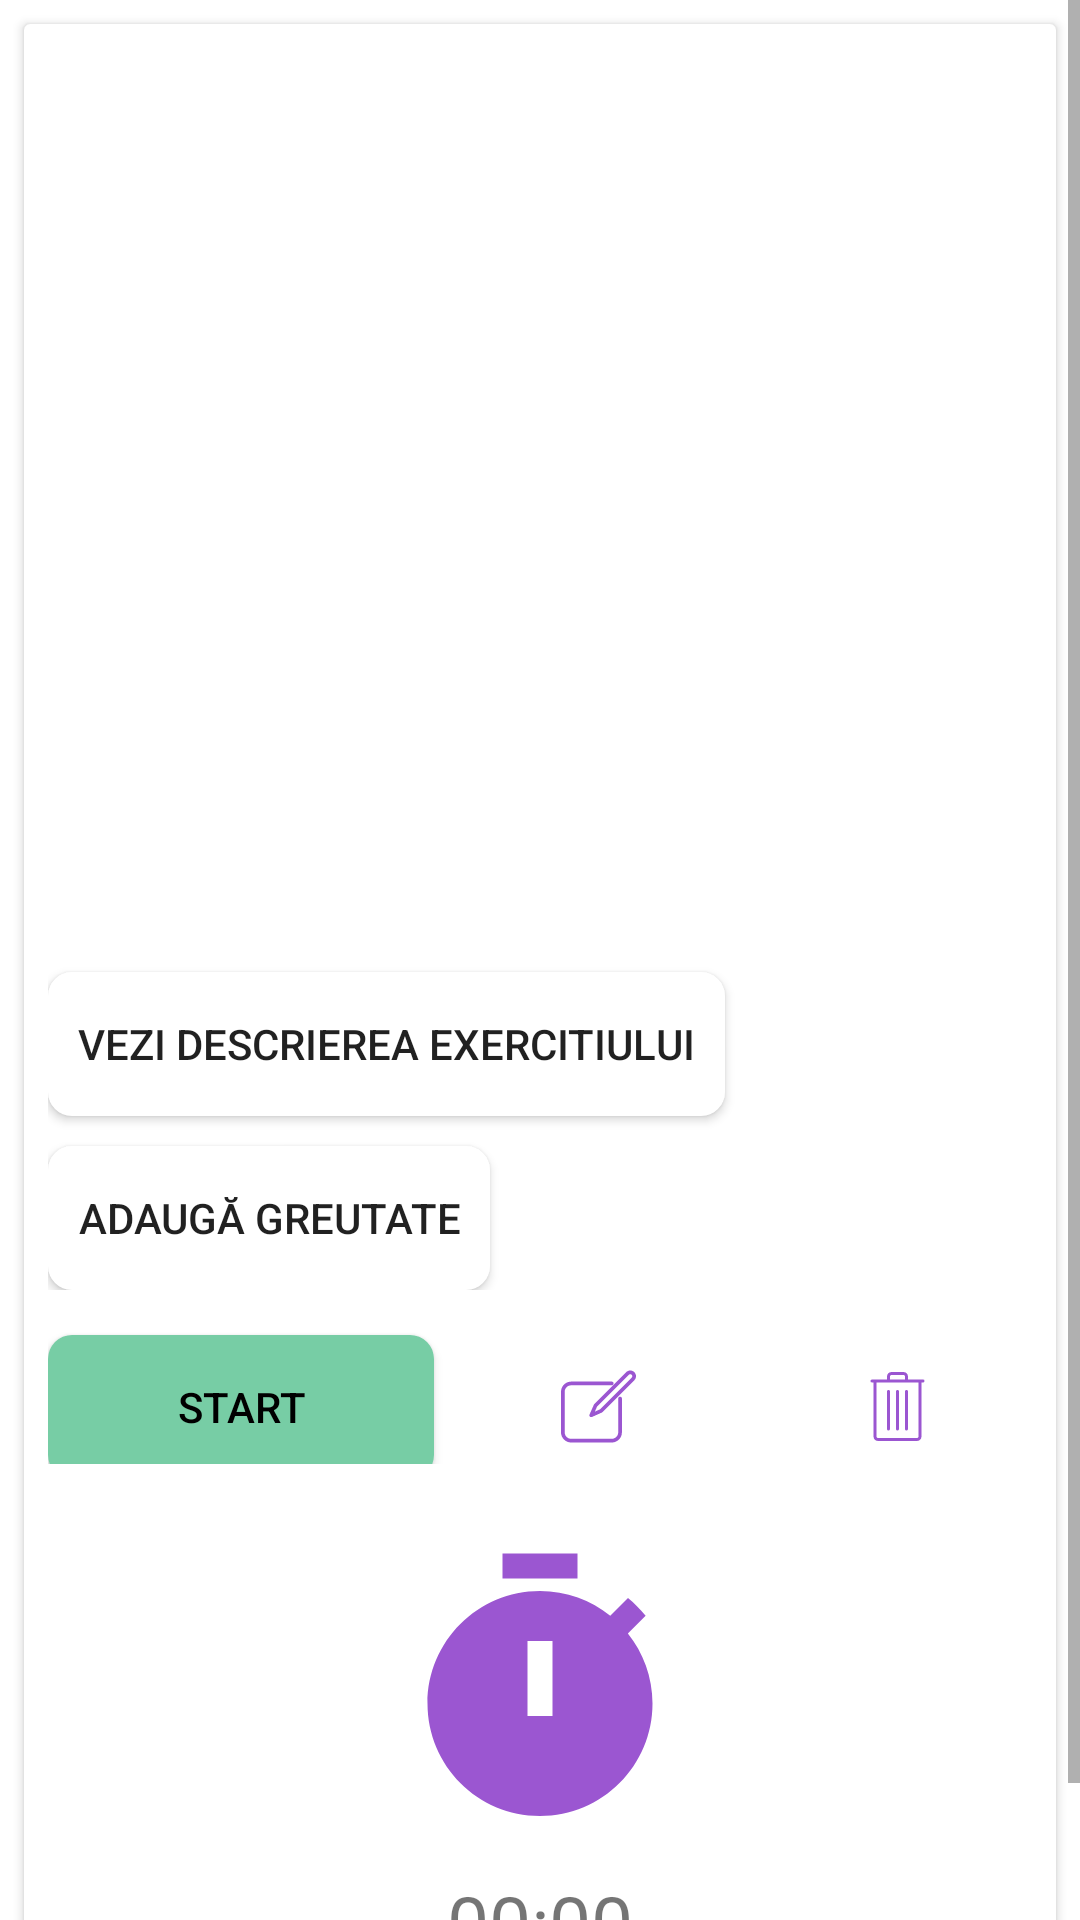

Icon bounding boxes for this 1080 x 1920 phone screenshot, format box(x1, y1, x2, y2):
edit: box(561, 1370, 636, 1443)
timer: box(427, 1553, 653, 1816)
trash can: box(870, 1372, 925, 1441)
